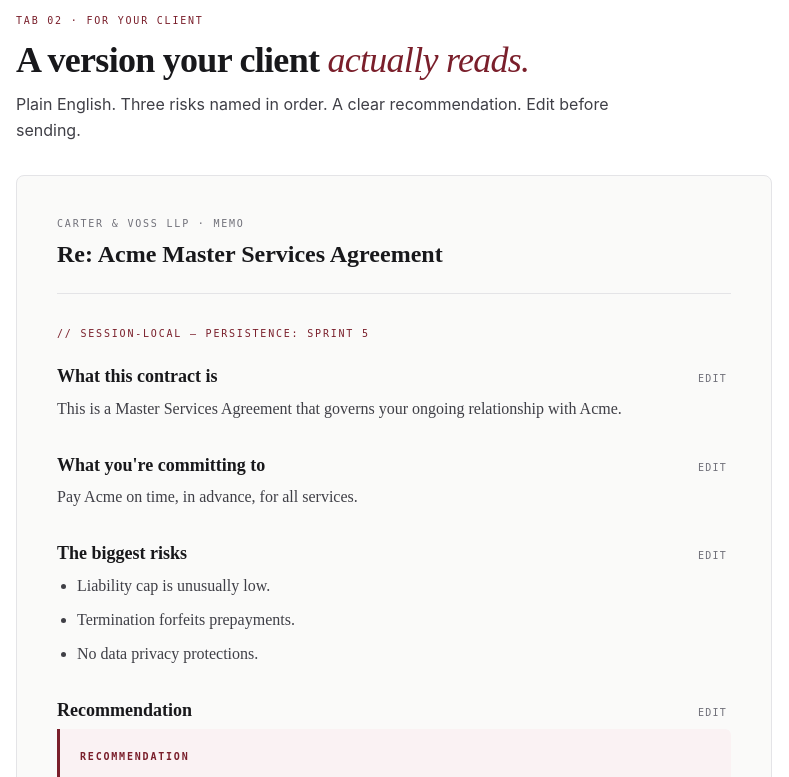
Test: <ClientSummary /> › edit-then-cancel: clicking Cancel after typing reverts to the original prop value
Click the button with test id "edit-what_this_contract_is" at (713, 378), box x1=694 y1=371 x2=731 y2=386
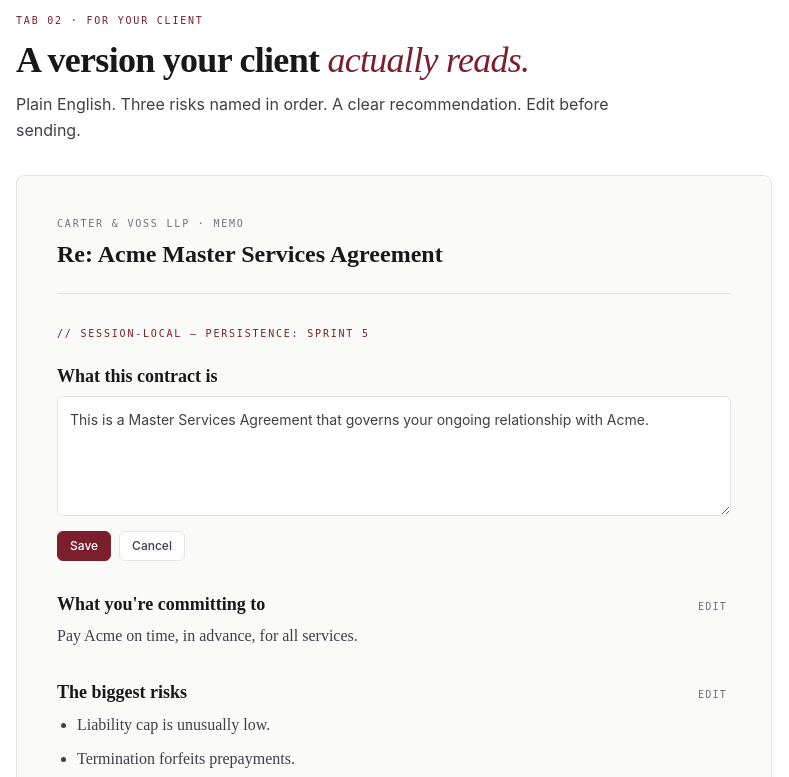
Replace the text in the text box with test id "textarea-what_this_contract_is" with "should not stick" at (394, 456), box x1=57 y1=396 x2=731 y2=516
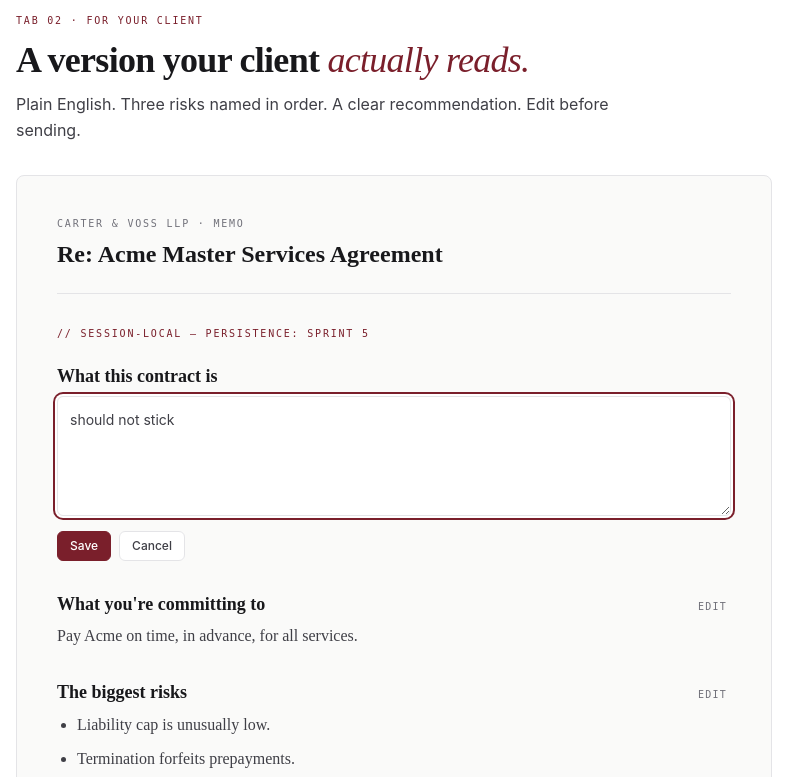
Click the button with test id "cancel-what_this_contract_is" at (152, 546), box x1=119 y1=530 x2=185 y2=560
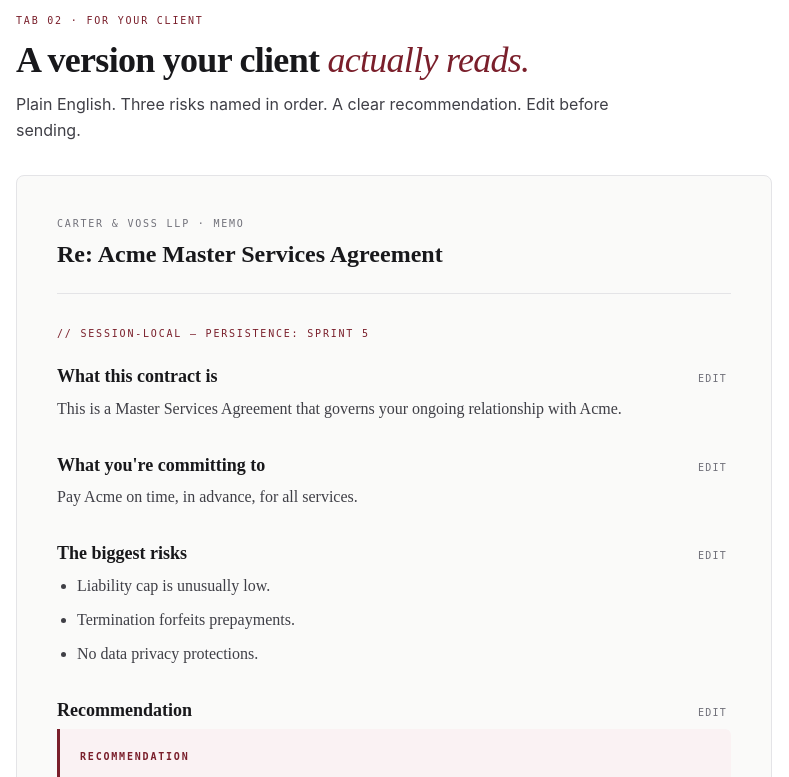
Expected: the text "should not stick" is not shown
Now the text box with test id "textarea-what_this_contract_is" is gone
Now the text "This is a Master Services Agreement that governs your ongoing relationship with Acme." is shown, box x1=57 y1=400 x2=622 y2=416
